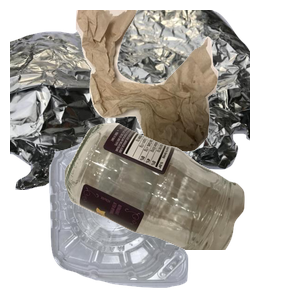glass: (62, 120, 300, 300)
metal: (10, 10, 250, 190)
plastic: (46, 130, 227, 300)
trash: (73, 10, 300, 163)
